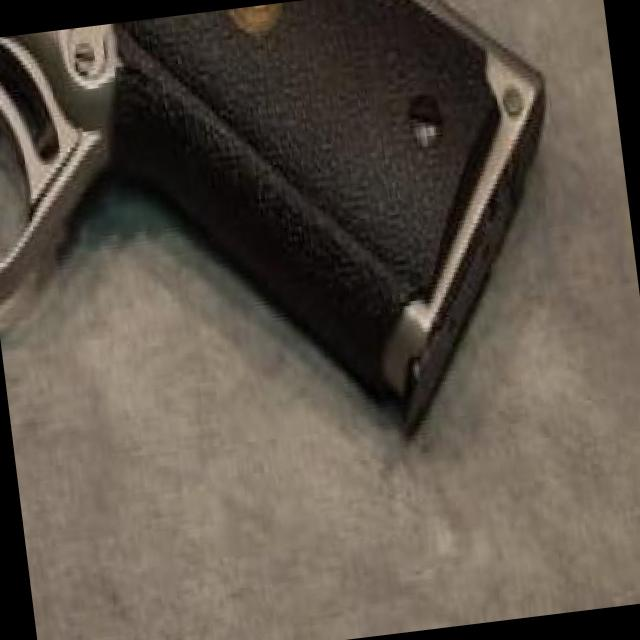Guns: (0, 0, 613, 549)
